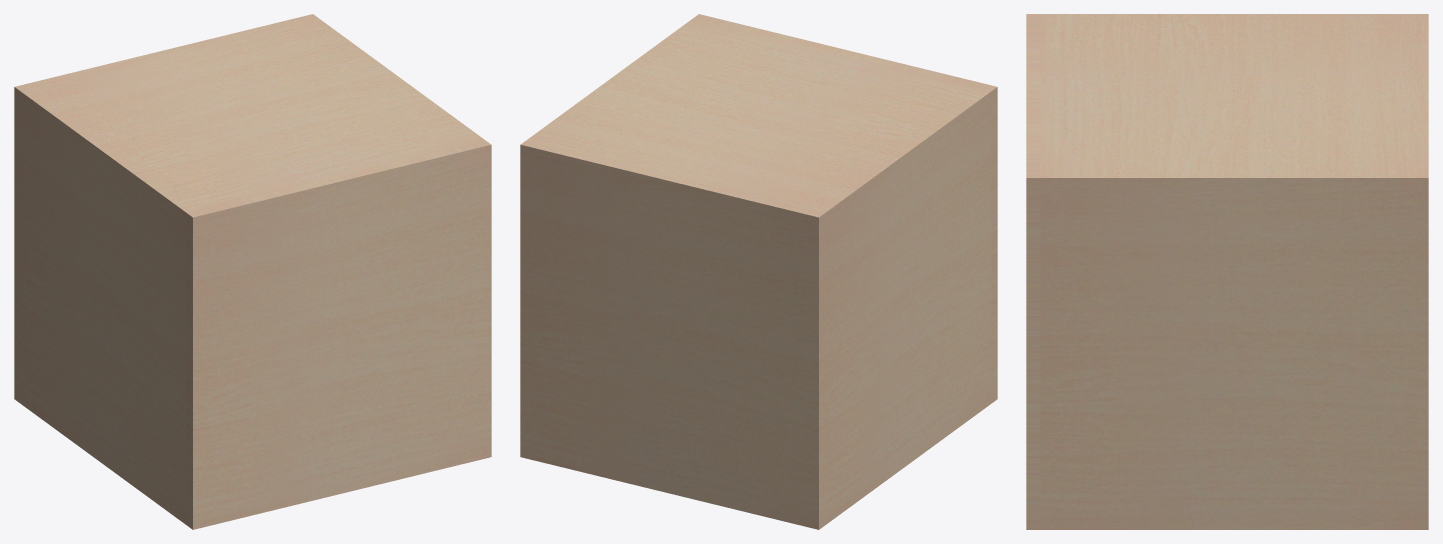
File: wall_mid.FBX
The picture shows the model from 3 angles, left to right: view 1: azimuth 30°, elevation 25°; view 2: azimuth 150°, elevation 25°; view 3: azimuth 270°, elevation 25°; orthographic projection. The views are drawn at different scales.
Parts seen in each view (by area): view 1: wall_mid; view 2: wall_mid; view 3: wall_mid.
Boxes of the visible parts, x1,y1,x2,y2 form: wall_mid: [14, 14, 491, 529]; wall_mid: [520, 14, 997, 529]; wall_mid: [1026, 14, 1428, 529].
Size of the model in its own units: 1 by 1.04 by 1.
1 material, 1 textured.
